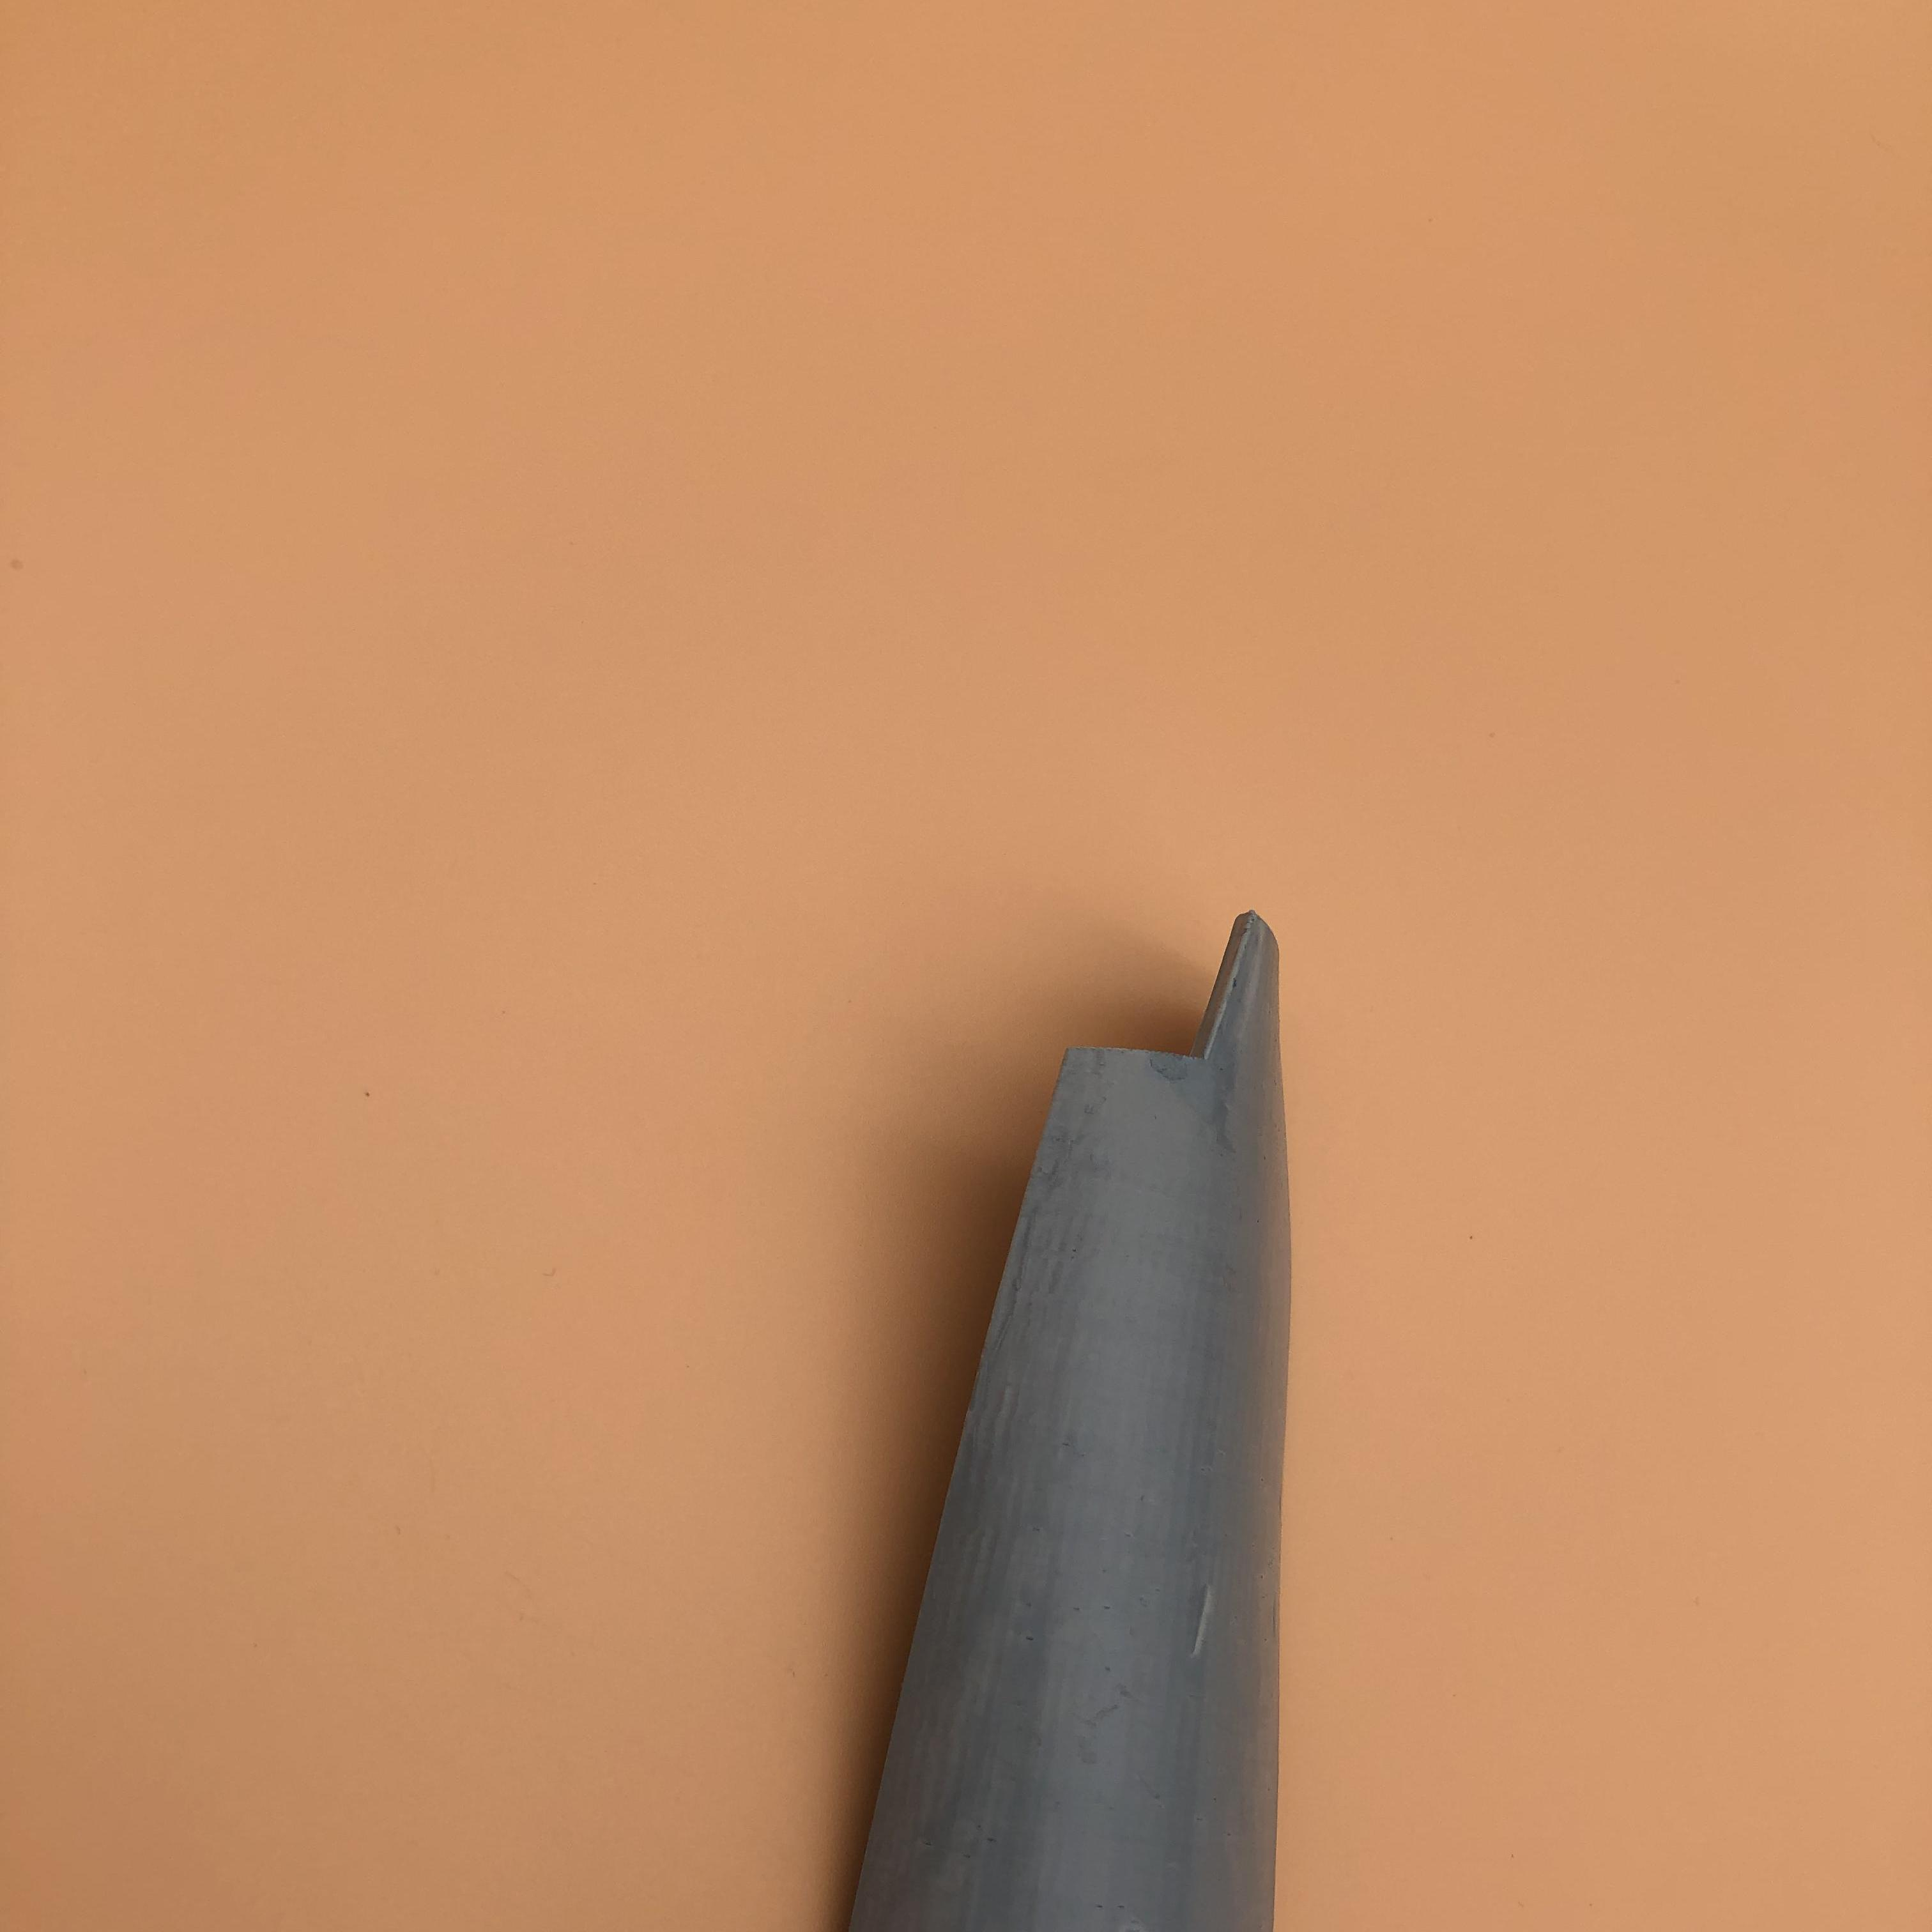fracture: (1063, 911, 1277, 1086)
